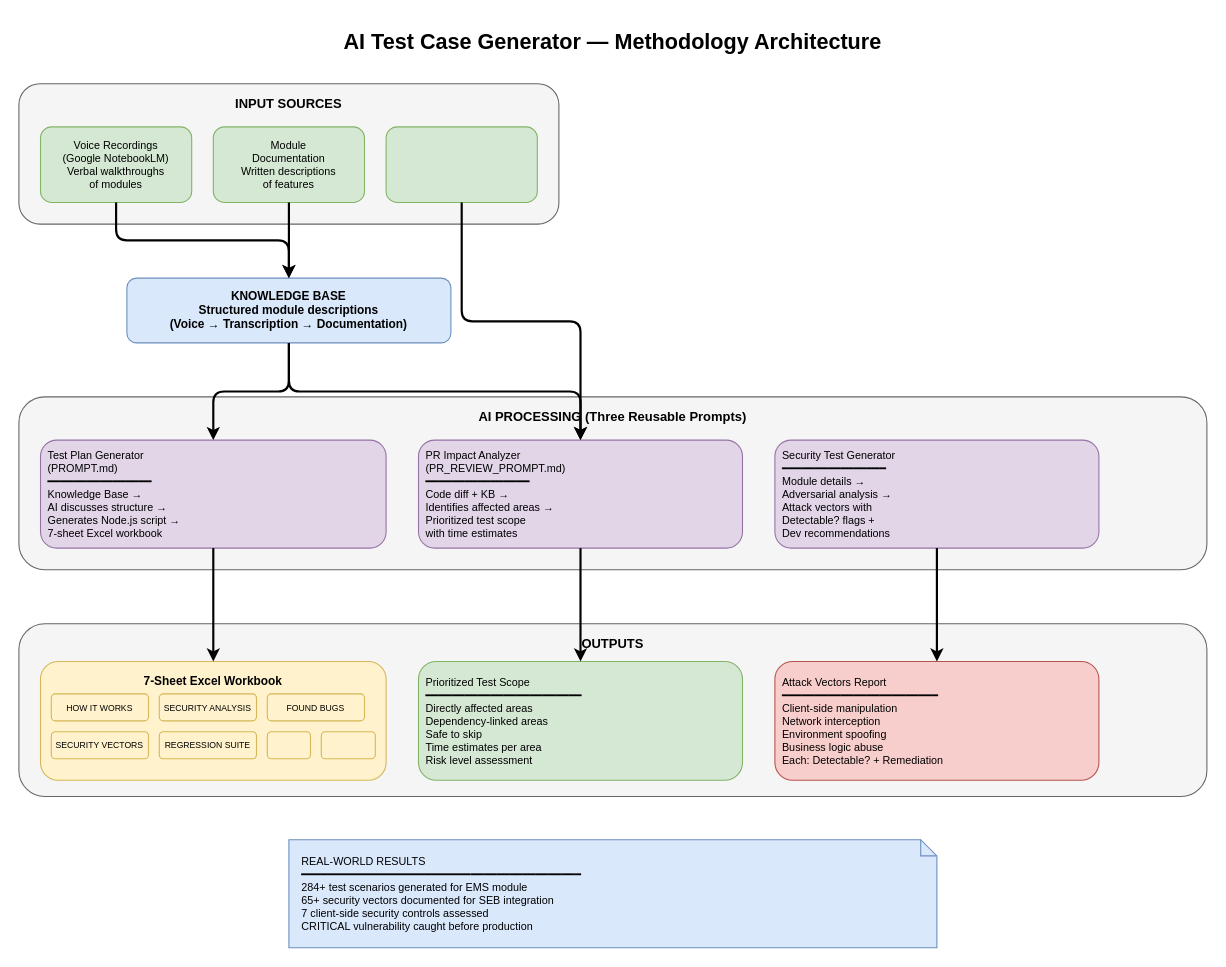
Image size: 1226x967. Some labels were removed from this diagram. Here are the shapes that lost their labels. From the top down, the centre of each, then its label:
[461,164]: PR Code Diffs git diff output from pull requests
[288,745]: NOTES
[347,745]: DASHBOARD
